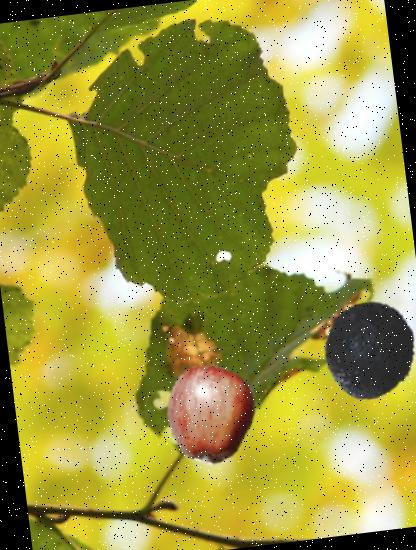Apple: (154, 356, 265, 468)
Avocado: (315, 295, 416, 409)
